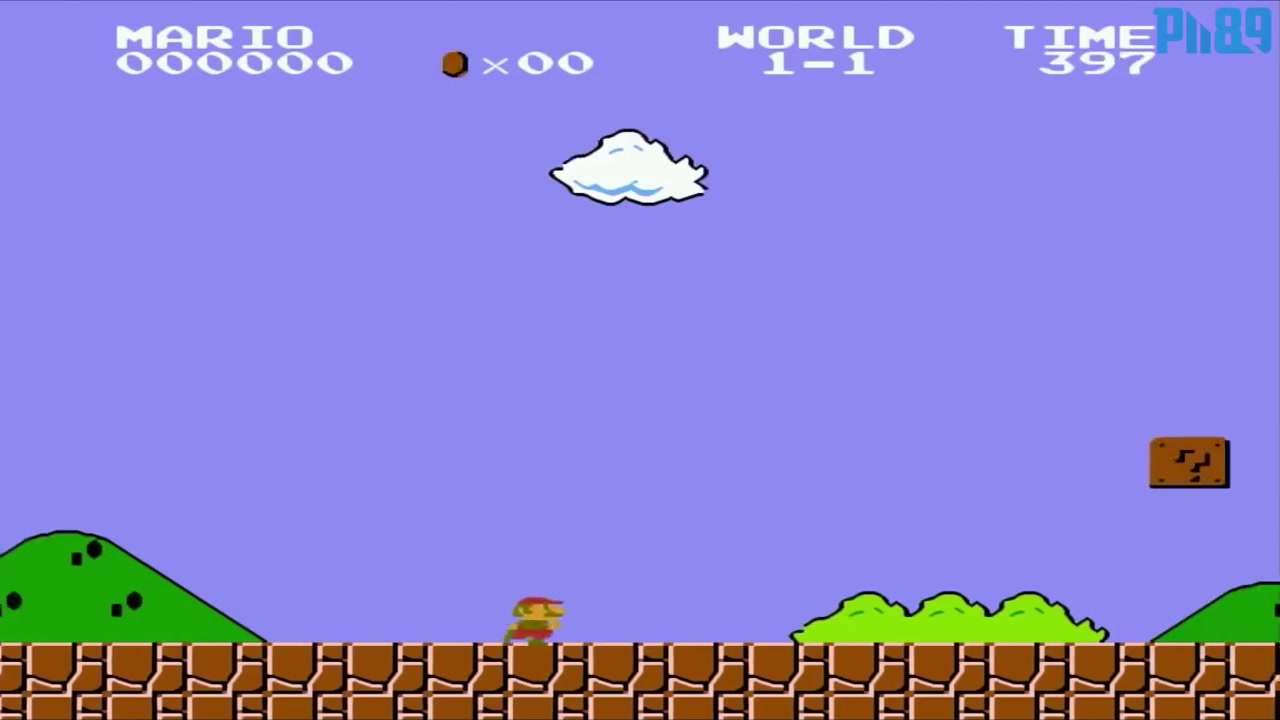mario: (492, 592, 568, 642)
